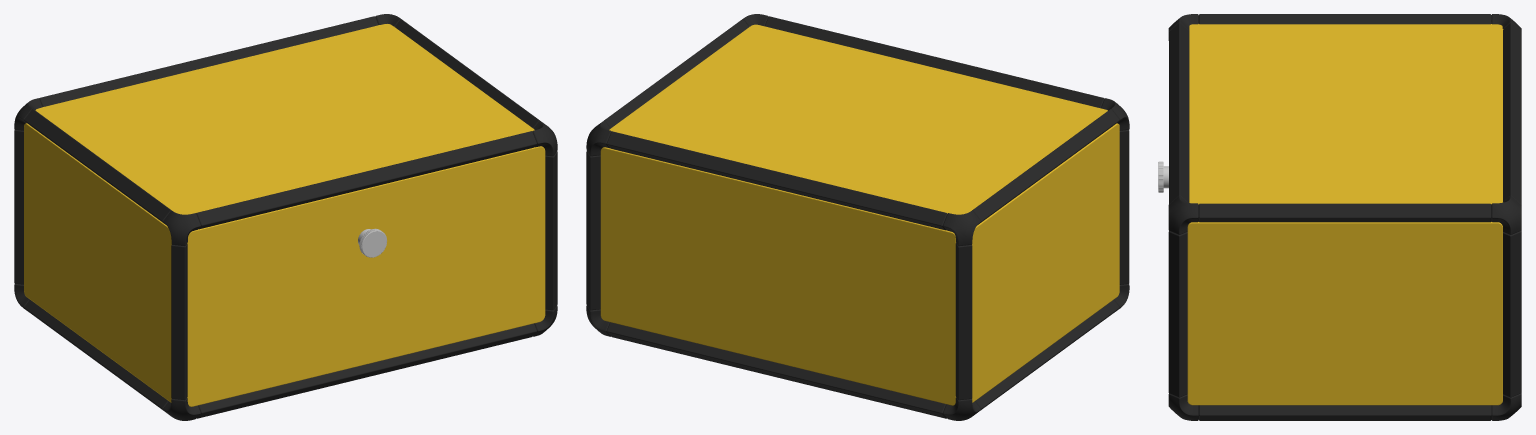
The picture shows the model from 3 angles, left to right: view 1: azimuth 30°, elevation 25°; view 2: azimuth 150°, elevation 25°; view 3: azimuth 270°, elevation 25°; orthographic projection. The views are drawn at different scales.
Parts seen in each view (by area): view 1: 523x374x229; view 2: 523x374x229; view 3: 523x374x229.
Part boxes in pixels (x1=…): 523x374x229: x1=14, y1=14, x2=557, y2=420; 523x374x229: x1=586, y1=14, x2=1129, y2=420; 523x374x229: x1=1158, y1=14, x2=1521, y2=420.
Size of the model in its own units: 0.6007 by 0.3066 by 0.4646.
